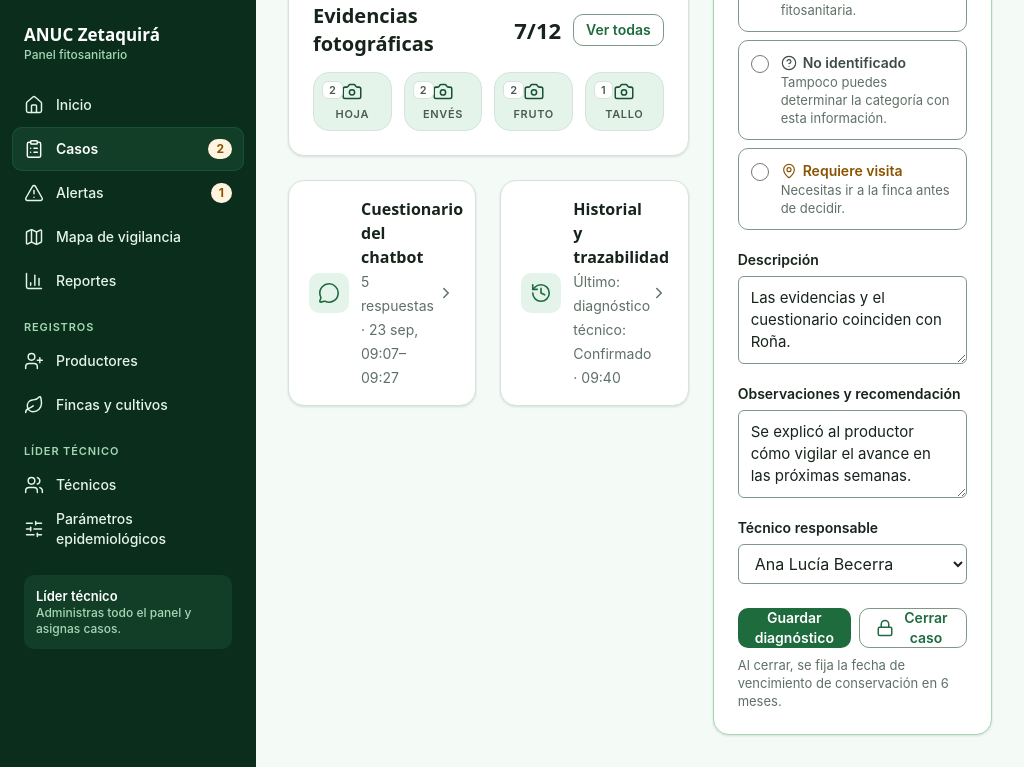
Diagnóstico técnico y cierre › con cambios sin guardar pide guardar antes de cerrar (#0230 Registrado)
The image size is (1024, 767).
(page scrolled)
Expected: the button "Cerrar caso" is enabled, [859,608,967,648]
Type " Volver en 15 días." into the text box labelled "Observaciones y recomendación" at (852, 454), box [738,410,967,498]
(page scrolled)
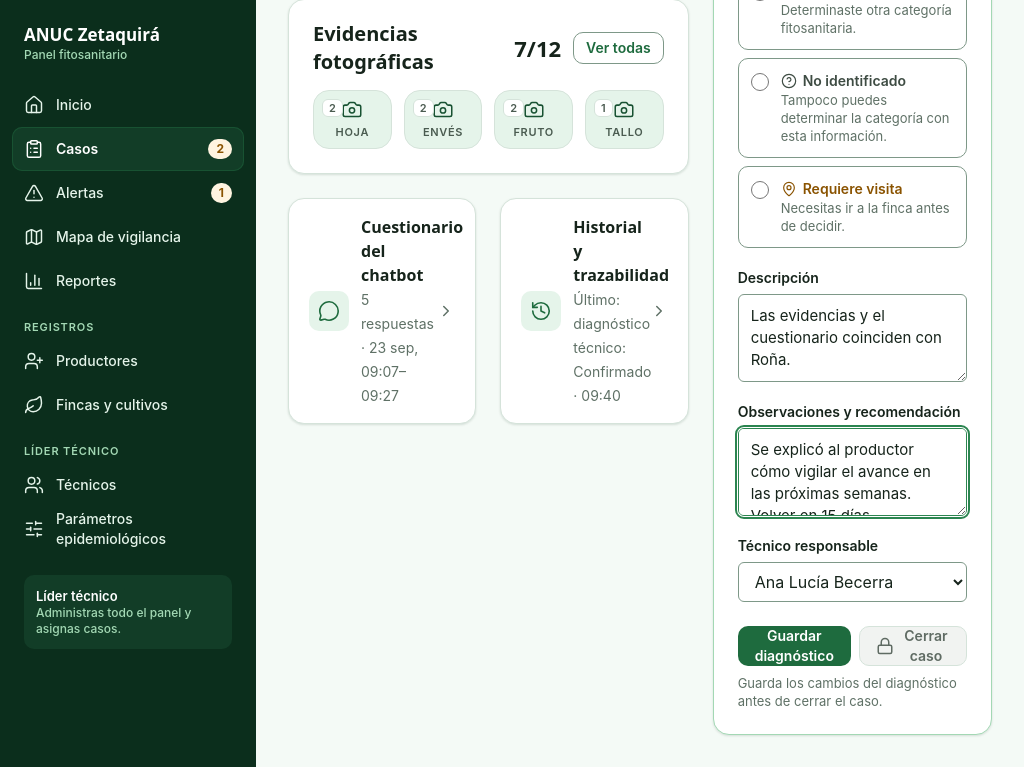
Result: the button "Cerrar caso" is disabled at [859,626,967,666]
Result: the text "Guarda los cambios del diagnóstico antes de cerrar el caso." is shown at [738,674,967,710]
